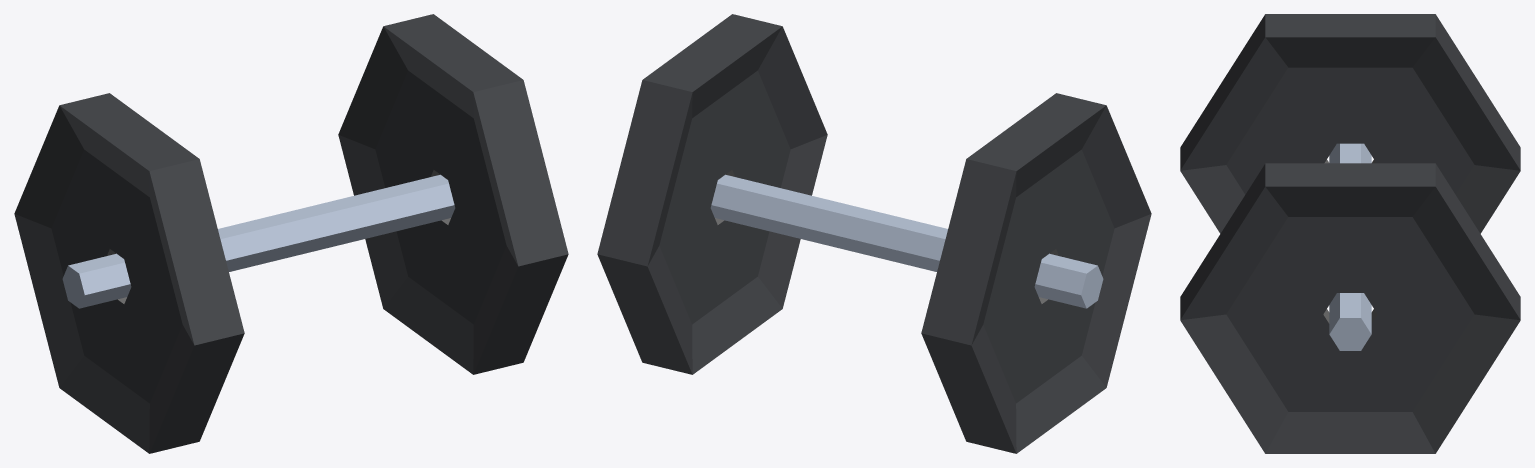
File: Dumbbell.fbx
3 views of the same model, side by side, from view 1: azimuth 30°, elevation 25°; view 2: azimuth 150°, elevation 25°; view 3: azimuth 270°, elevation 25° (orthographic). The views are drawn at different scales.
Visible parts, largest first — view 1: dumbell 1; view 2: dumbell 1; view 3: dumbell 1.
Boxes of the visible parts, x1=… form: dumbell 1: x1=14, y1=14, x2=568, y2=453; dumbell 1: x1=597, y1=14, x2=1151, y2=453; dumbell 1: x1=1180, y1=14, x2=1520, y2=453.
Size of the model in its own units: 44.26 by 27.45 by 31.7.
